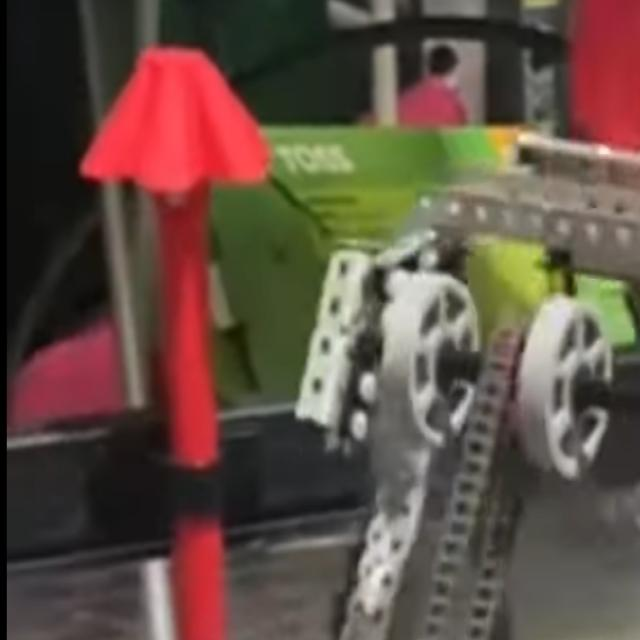zred-Stake-Head: (80, 48, 268, 191)
